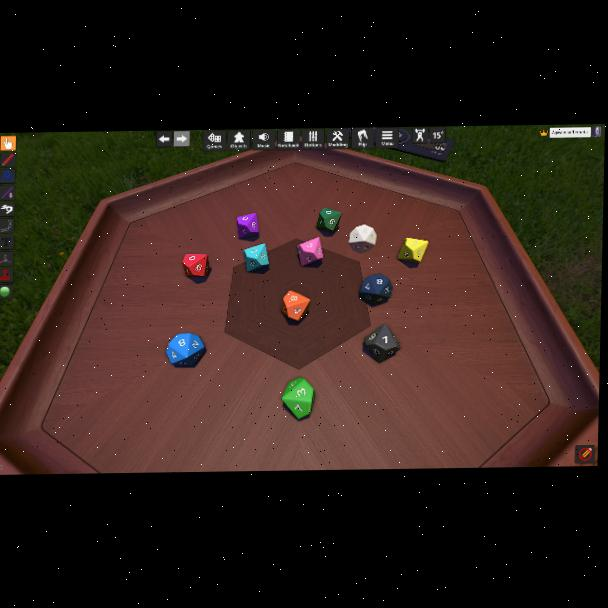d10: (364, 323, 400, 363), (166, 333, 206, 367), (281, 378, 314, 419), (358, 274, 391, 305), (243, 243, 270, 273), (282, 291, 308, 322), (349, 224, 376, 253), (398, 238, 428, 264), (182, 253, 210, 279), (298, 238, 323, 266), (316, 207, 340, 233), (235, 213, 259, 239)
